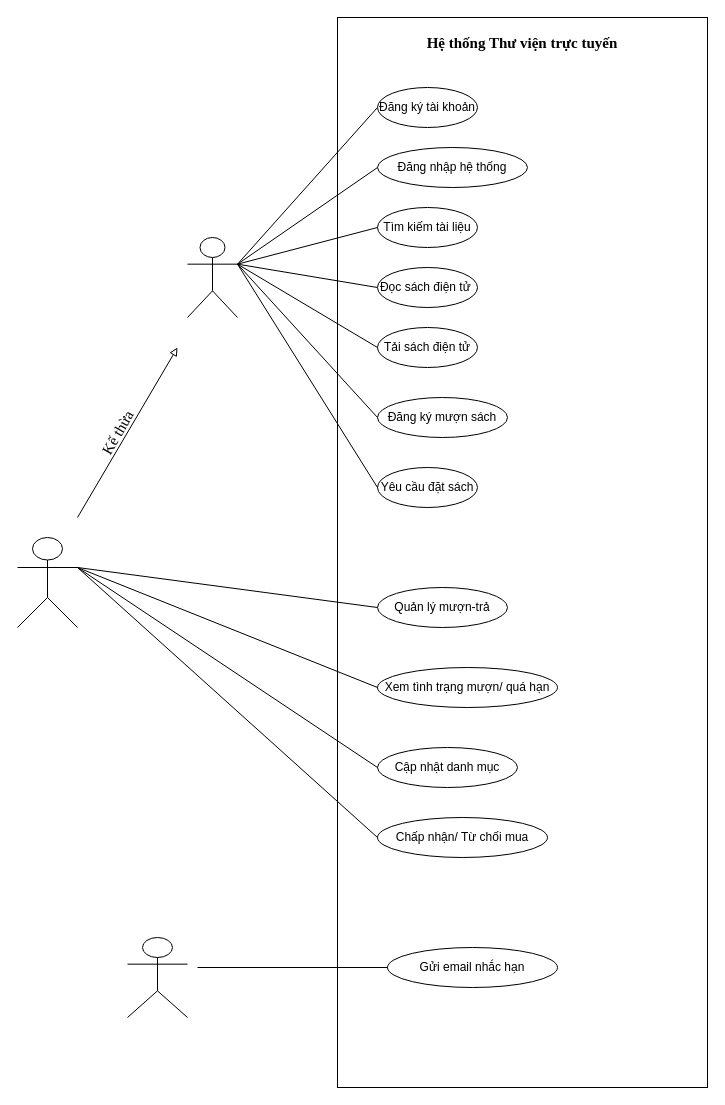
This 725x1105 diagram has some shape labels left out. The shapes that lost their labels are listed below. From the top down, each one's box as (x1, y1, x2, y2) in pixels, then its label:
(186, 236, 238, 318): Độc giả
(16, 536, 78, 628): Thủ thư
(126, 936, 188, 1018): Hệ thống Email
